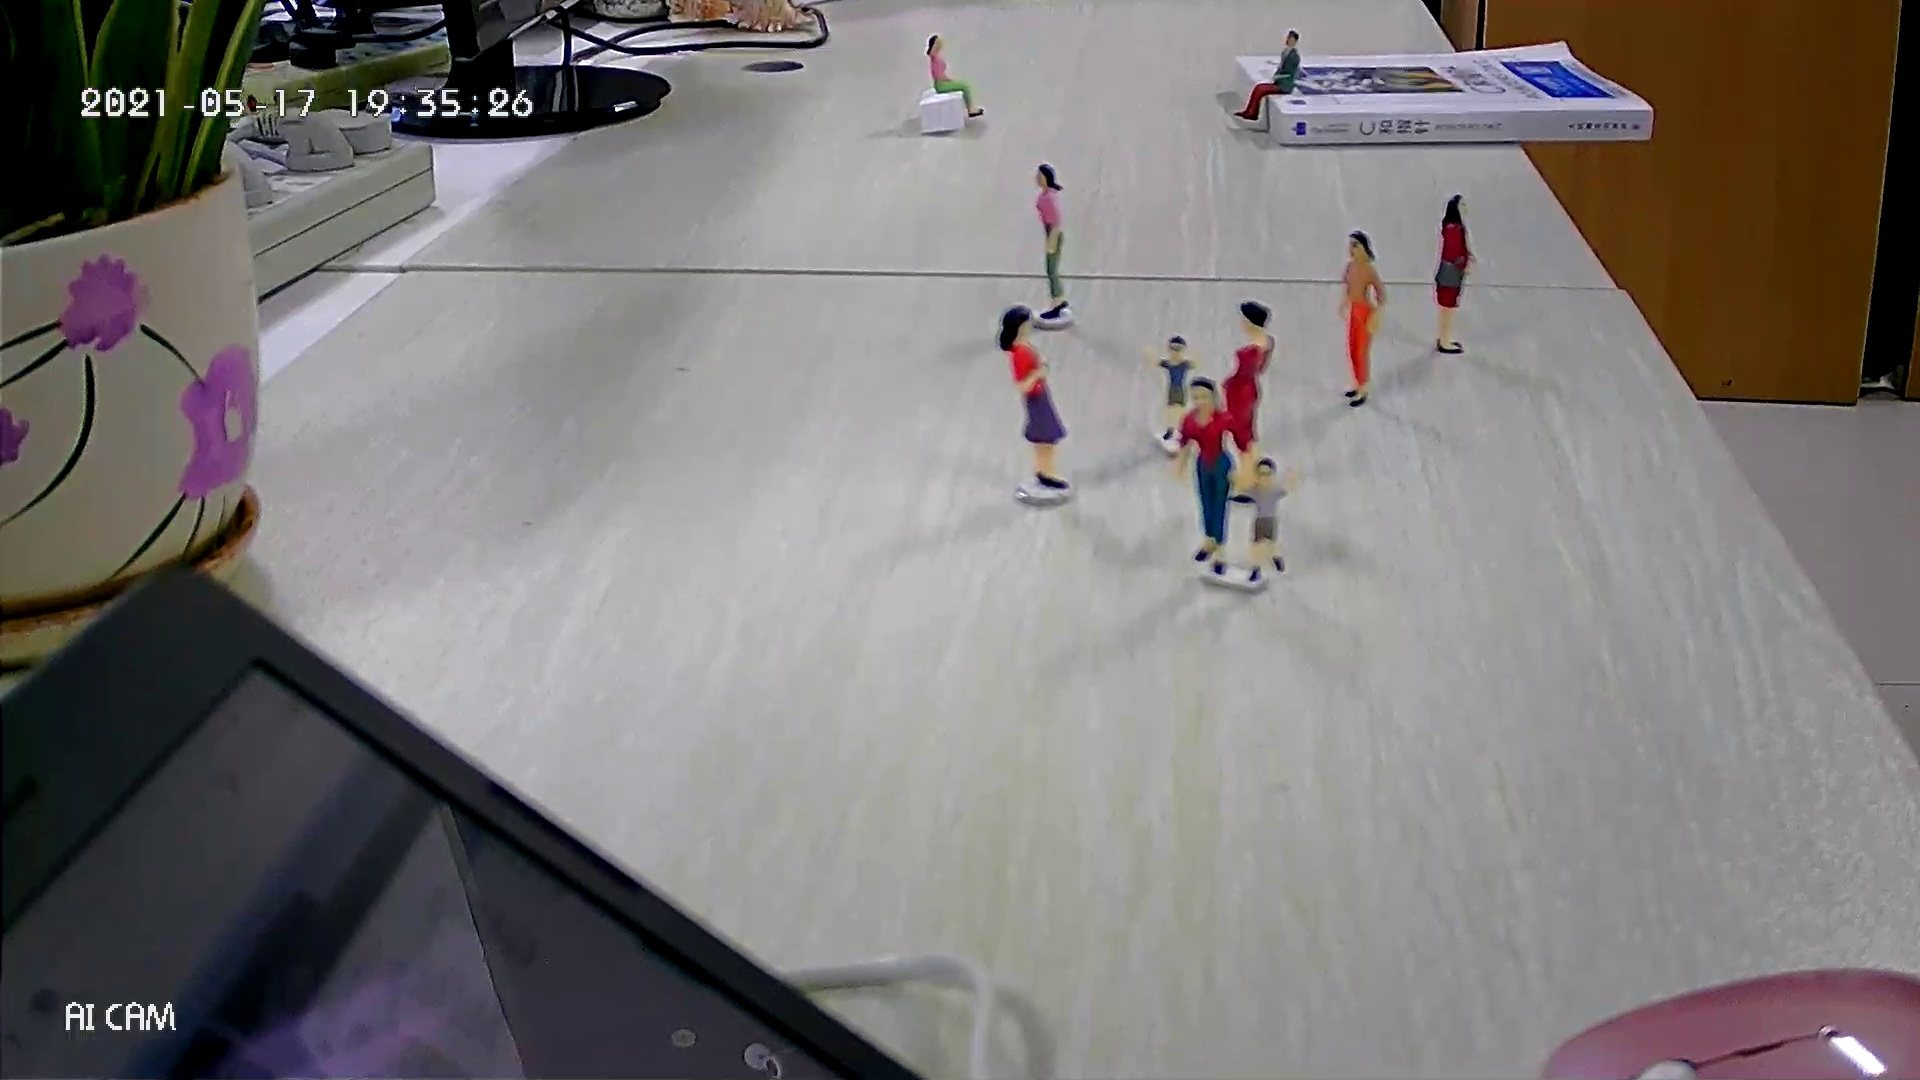person: (1173, 379, 1251, 578), (998, 304, 1075, 493), (1223, 298, 1278, 505), (1226, 453, 1301, 583), (1336, 229, 1386, 409), (1431, 194, 1478, 356), (1231, 26, 1304, 123), (1140, 335, 1203, 441), (1033, 161, 1071, 320), (925, 31, 990, 121)
